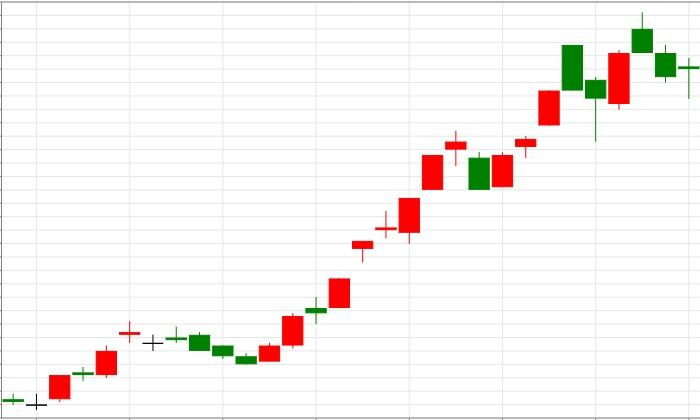evening_star_fall: (329, 132, 489, 308)
